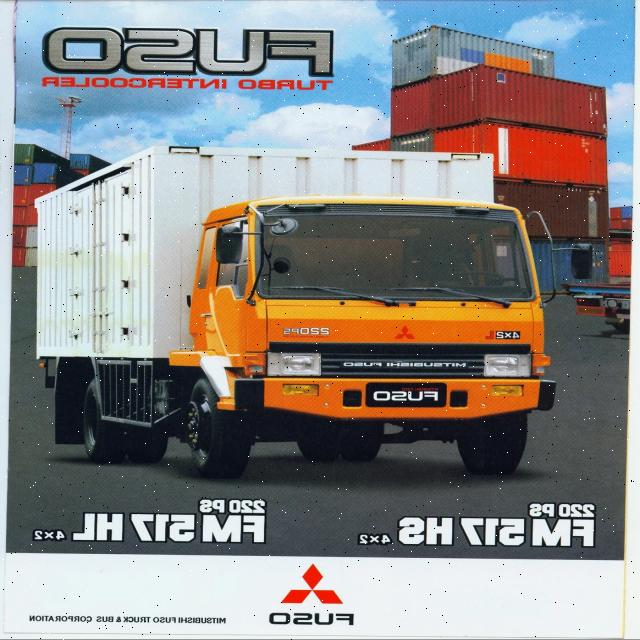truck: (34, 148, 590, 478)
